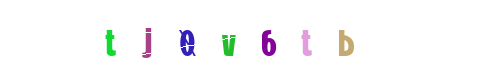0: (147, 0, 227, 80)
6: (228, 0, 308, 80)
B: (288, 0, 368, 80)
J: (134, 0, 214, 80)
T: (126, 0, 206, 80), (232, 0, 312, 80)
V: (202, 0, 282, 80)
